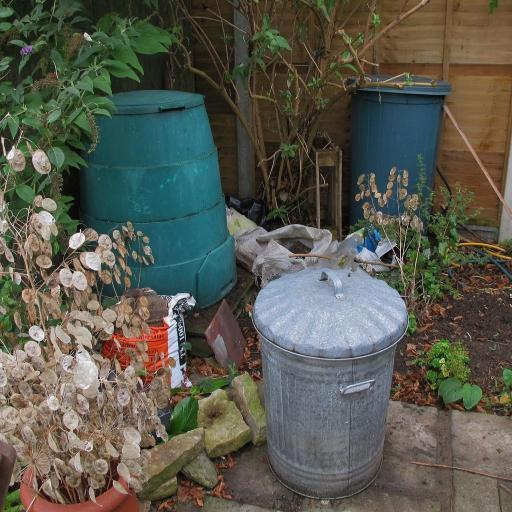trash-can: (248, 246, 412, 502)
